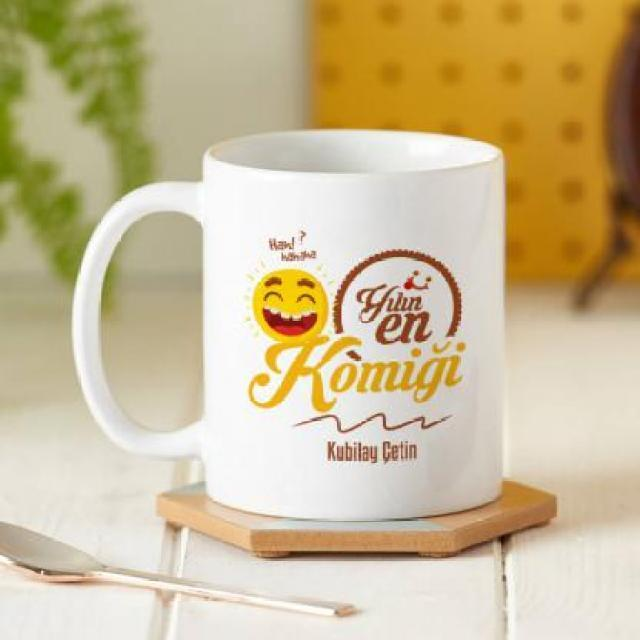taza: (71, 128, 506, 522)
